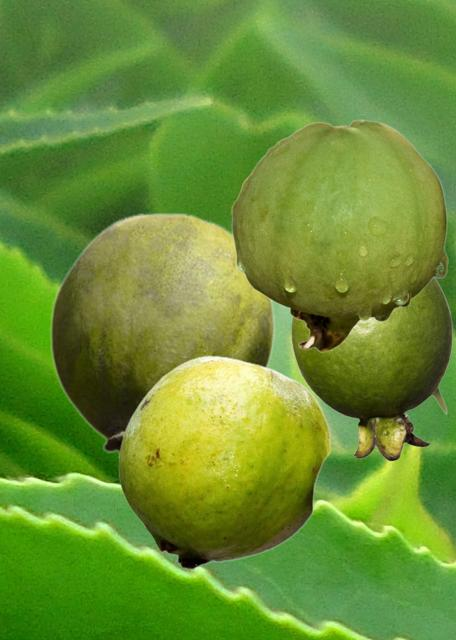guava: (49, 212, 275, 457), (231, 119, 447, 351), (118, 355, 330, 569), (291, 279, 451, 460)
